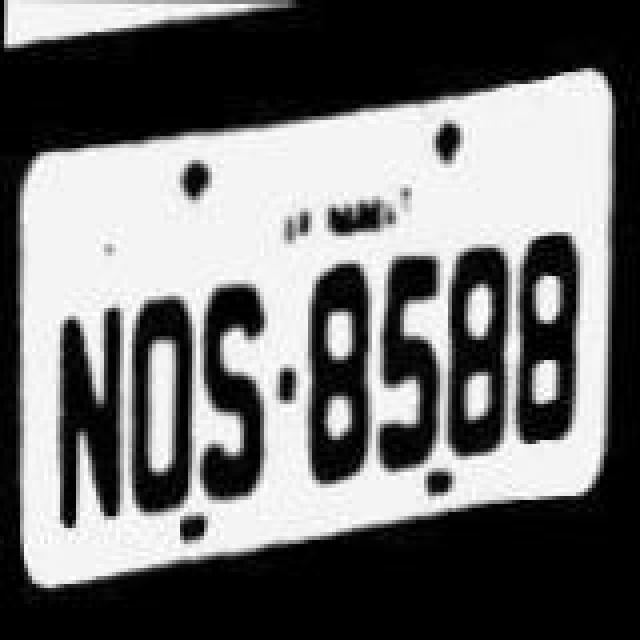5: (374, 246, 454, 466)
8: (300, 256, 384, 492), (512, 218, 588, 470), (446, 230, 518, 466)
N: (46, 292, 130, 548)
O: (122, 274, 198, 522)
S: (196, 274, 276, 510)
